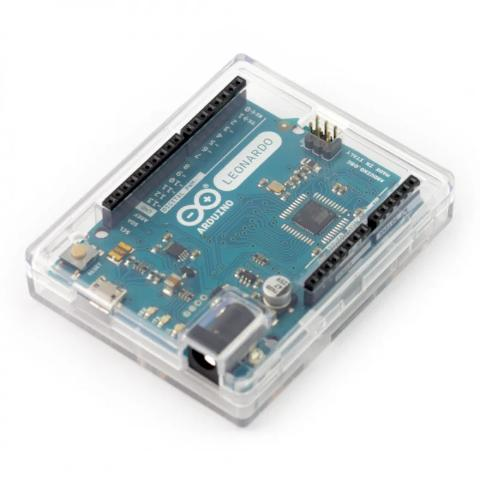Arduino-Leonardo: (38, 58, 444, 406)
